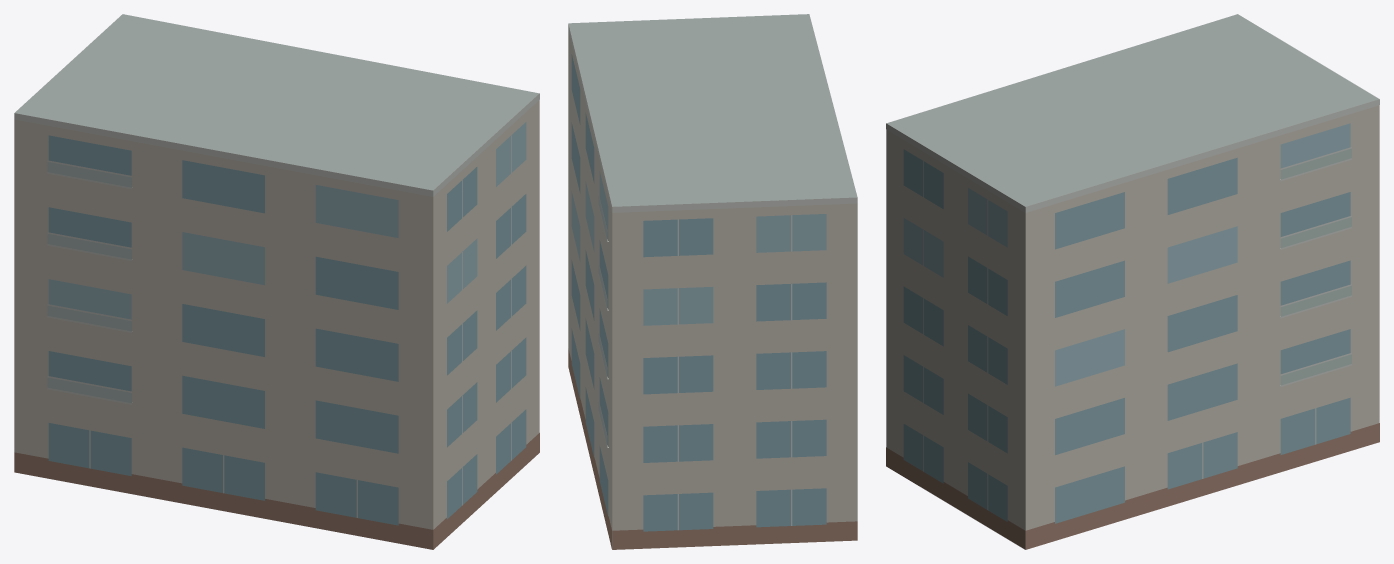
The model's file is survey-upis-32806590.glb.
The picture shows the model from 3 angles, left to right: view 1: azimuth 30°, elevation 25°; view 2: azimuth 150°, elevation 25°; view 3: azimuth 270°, elevation 25°; orthographic projection. The views are drawn at different scales.
Parts seen in each view (by area): view 1: survey-upis-32806590.tmp; view 2: survey-upis-32806590.tmp; view 3: survey-upis-32806590.tmp.
Part boxes in pixels (x1=…): survey-upis-32806590.tmp: x1=14, y1=14, x2=539, y2=549; survey-upis-32806590.tmp: x1=568, y1=14, x2=857, y2=549; survey-upis-32806590.tmp: x1=886, y1=14, x2=1379, y2=549.
Bounding box in the file's own units: 16.78 × 13.9 × 18.14.
